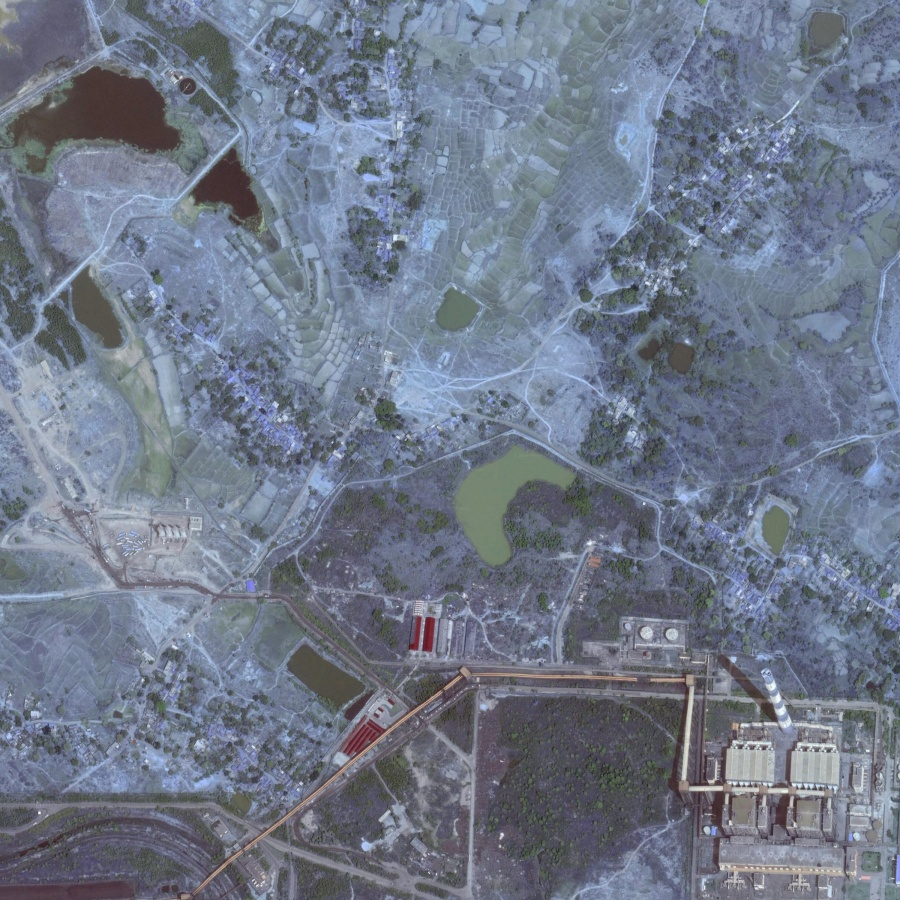PowerPlant: (692, 629, 846, 762)
